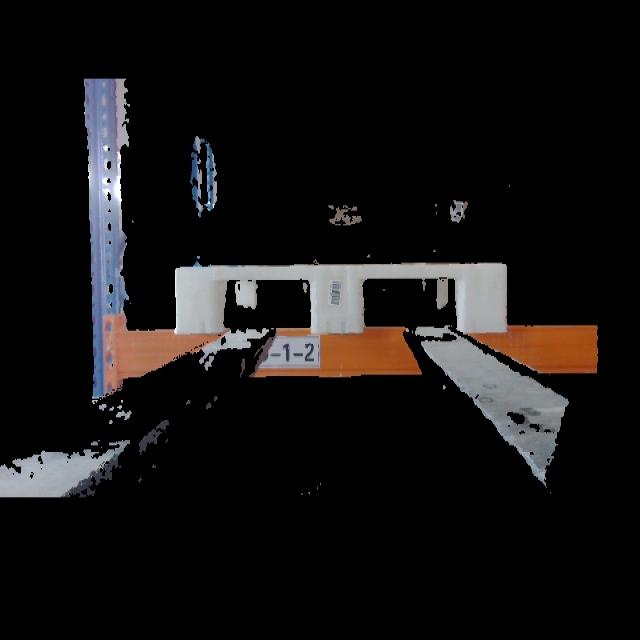block: (458, 268, 512, 336), (309, 266, 359, 332), (176, 269, 223, 333)
front: (176, 263, 512, 336)
